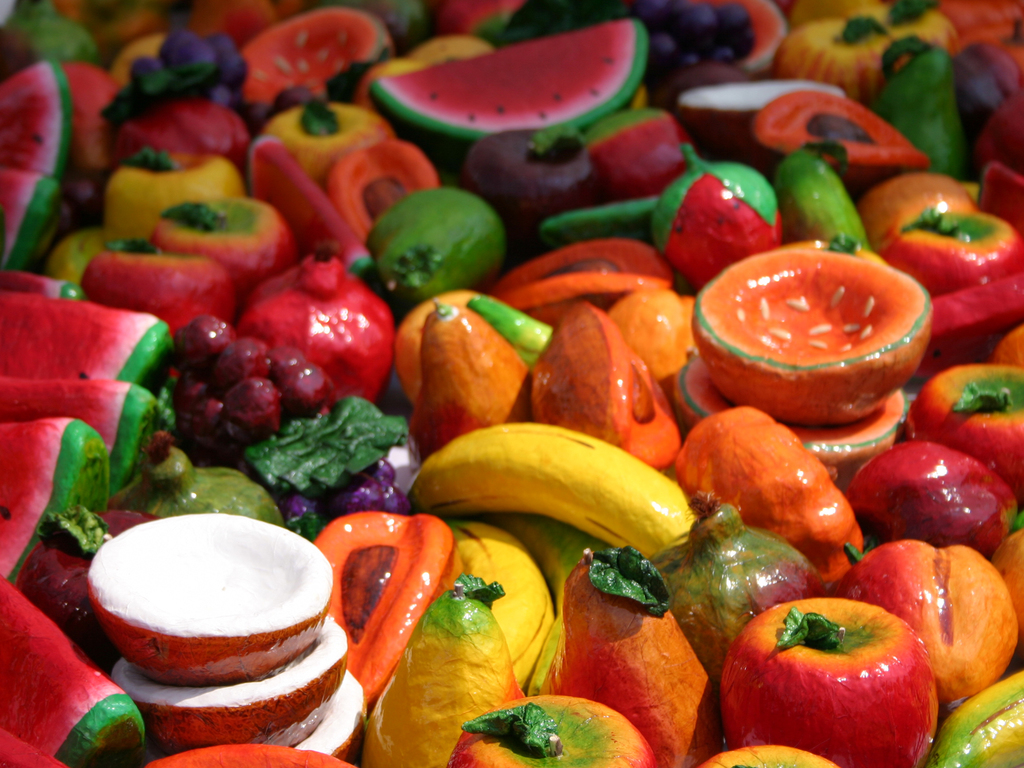Apple: (735, 606, 945, 768), (846, 437, 1023, 554), (901, 364, 1023, 500), (448, 695, 661, 767), (80, 237, 239, 333), (152, 201, 297, 304), (98, 145, 244, 241), (880, 206, 1023, 298), (778, 21, 907, 111), (258, 99, 391, 186), (794, 0, 951, 55), (53, 231, 128, 291)
